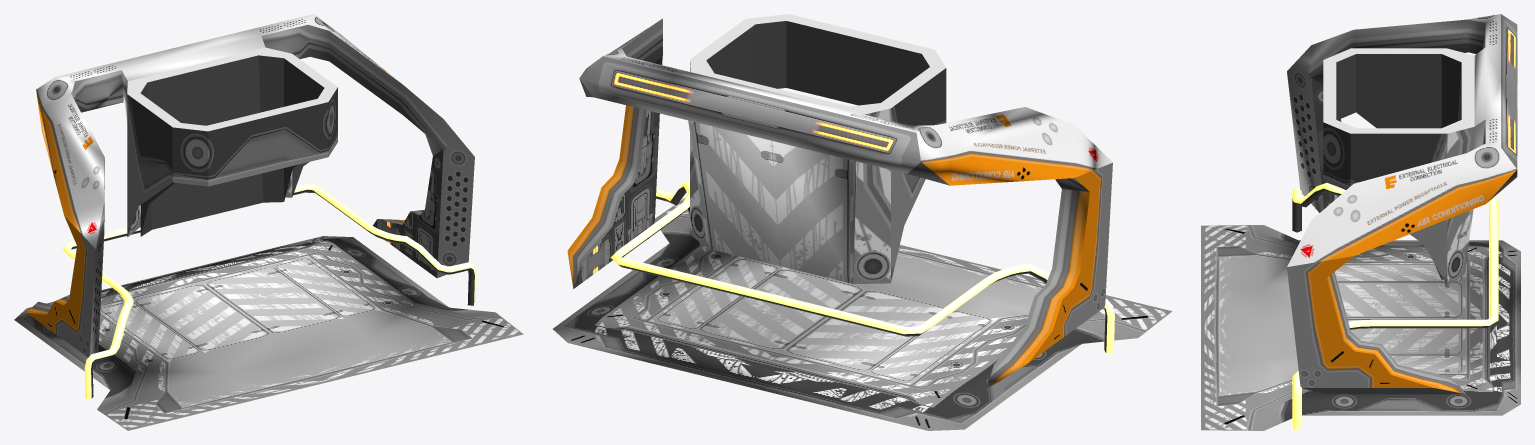
The model's file is goods-station-1.glb.
The picture shows the model from 3 angles, left to right: view 1: azimuth 30°, elevation 25°; view 2: azimuth 150°, elevation 25°; view 3: azimuth 270°, elevation 25°; orthographic projection. The views are drawn at different scales.
Parts seen in each view (by area): view 1: Plane.004; view 2: Plane.004; view 3: Plane.004.
Boxes of the visible parts, x1,y1,x2,y2 form: Plane.004: [14, 14, 523, 430]; Plane.004: [553, 14, 1171, 430]; Plane.004: [1201, 14, 1520, 430].
Bounding box in the file's own units: 19.99 × 11.25 × 13.11.
1 material, 1 textured.
